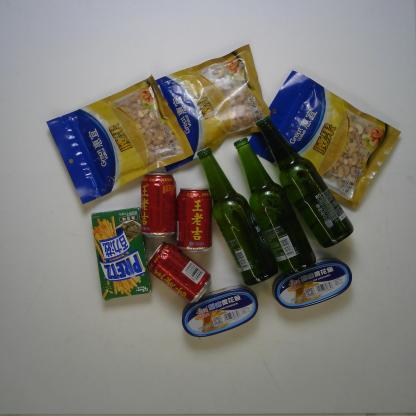Alcohol: (250, 111, 358, 250), (193, 143, 282, 287), (230, 136, 320, 277)
Canned Food: (270, 254, 353, 310), (178, 283, 259, 340)
Dessert: (90, 202, 154, 304)
Dried Fruit: (242, 68, 404, 218), (45, 72, 199, 206), (137, 40, 279, 177)
Drink: (144, 240, 214, 307), (138, 168, 180, 242), (175, 186, 216, 254)
